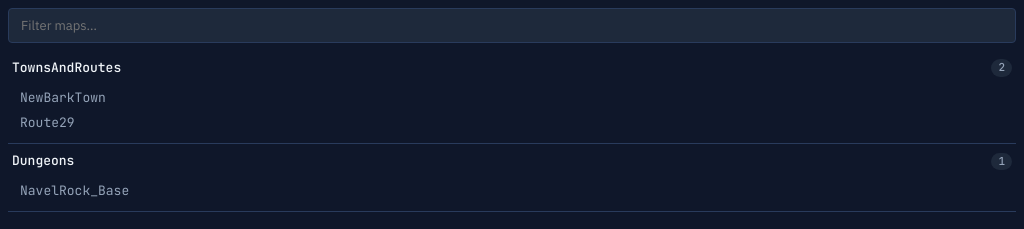
Test: MapTree › filters maps as the user types, keeping groups that still match
In the field with placeholder "Filter maps…": (512, 26) 8,8 -> 1016,43, type "navel"
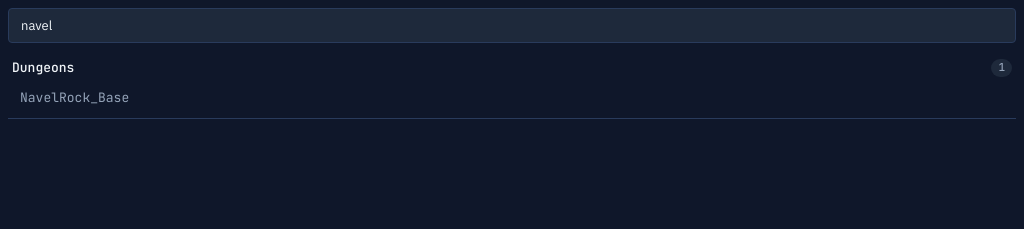
Expected: the button "NavelRock_Base" is shown, 8,85 -> 1016,110
Now the button "NewBarkTown" is gone
